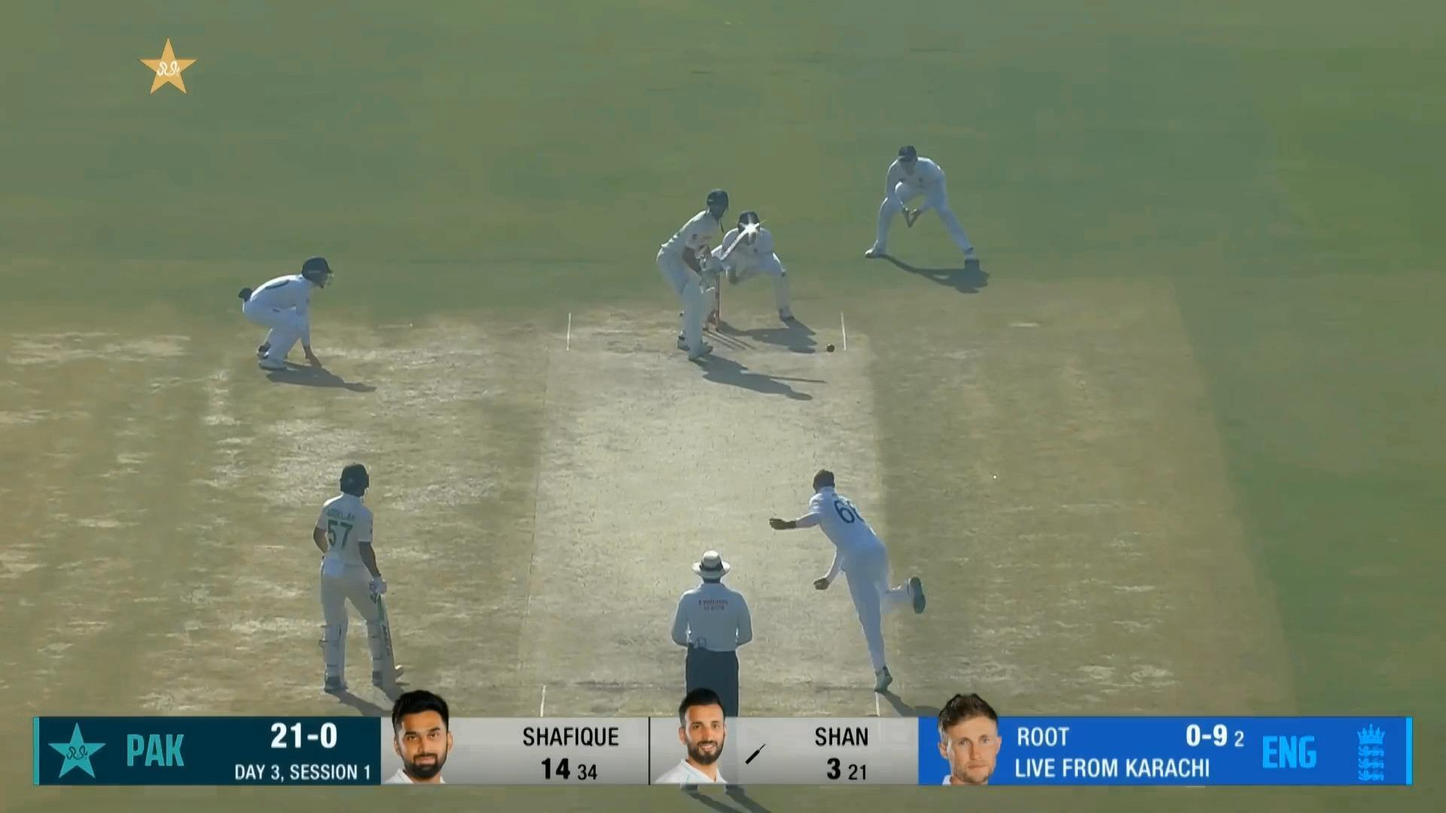BM 1: (656, 189, 758, 361)
BO: (769, 468, 926, 692)
